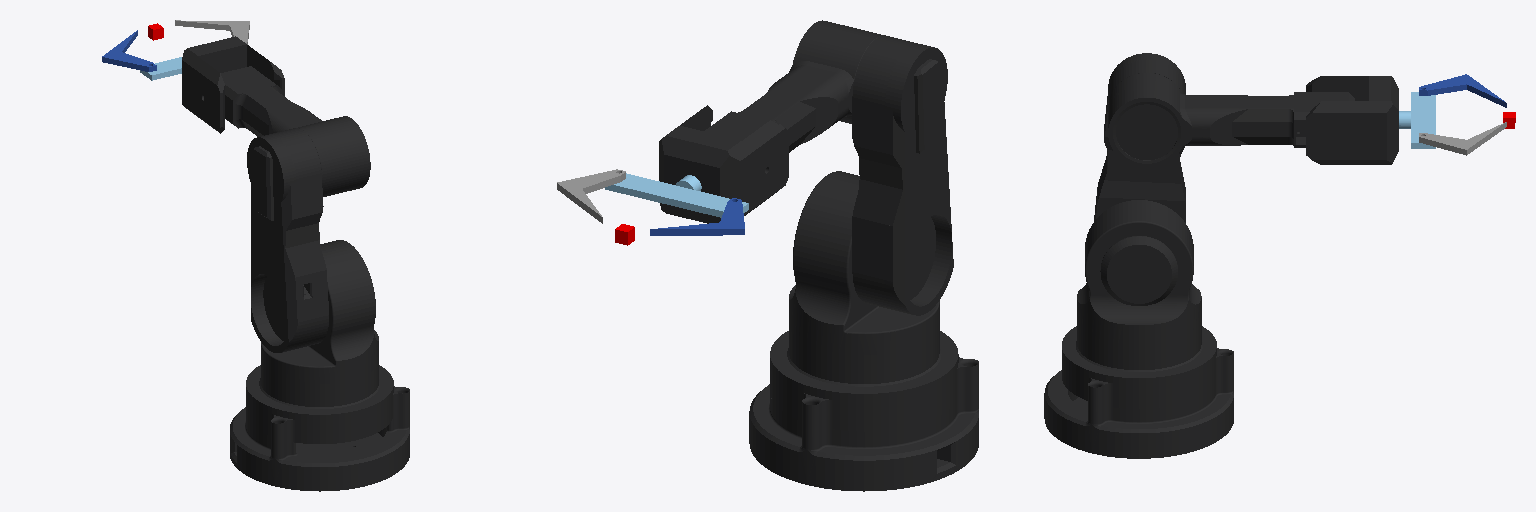
The robot description file, URDF, robot "D:\ArMigo(Camera detection)\my-robot":
<?xml version="1.0" ?>
<!-- Generated using onshape-to-robot -->
<!-- Onshape document_id: 5e99bb78a8250c6c95a72420 / workspace_id: 39aee4a9da8d2d7b8163efee -->
<robot name="D:\ArMigo(Camera detection)\my-robot">
  <!-- Link base -->
  <link name="base">
    <inertial>
      <origin xyz="0.000371043 -0.00214123 0.0408023" rpy="0 0 0"/>
      <mass value="0.817366"/>
      <inertia ixx="0.00178047" ixy="-5.26828e-06" ixz="6.95606e-06" iyy="0.00177252" iyz="5.74933e-05" izz="0.00234298"/>
    </inertial>
    <!-- Part base_cover -->
    <visual>
      <origin xyz="1.17294e-17 5.10979e-18 0.18944" rpy="0 -0 0"/>
      <geometry>
        <mesh filename="package://assets/base_cover.stl"/>
      </geometry>
      <material name="base_cover_material">
        <color rgba="0.219608 0.219608 0.223529 1"/>
      </material>
    </visual>
    <collision>
      <origin xyz="1.17294e-17 5.10979e-18 0.18944" rpy="0 -0 0"/>
      <geometry>
        <mesh filename="package://assets/base_cover.stl"/>
      </geometry>
    </collision>
    <!-- Part base -->
    <visual>
      <origin xyz="1.17294e-17 5.10979e-18 0.103886" rpy="0 -0 0"/>
      <geometry>
        <mesh filename="package://assets/base.stl"/>
      </geometry>
      <material name="base_material">
        <color rgba="0.219608 0.219608 0.223529 1"/>
      </material>
    </visual>
    <collision>
      <origin xyz="1.17294e-17 5.10979e-18 0.103886" rpy="0 -0 0"/>
      <geometry>
        <mesh filename="package://assets/base.stl"/>
      </geometry>
    </collision>
  </link>
  <!-- Link base_joint -->
  <link name="base_joint">
    <inertial>
      <origin xyz="0.00711901 0.000479763 -0.0402119" rpy="0 0 0"/>
      <mass value="0.493459"/>
      <inertia ixx="0.000765832" ixy="-4.20701e-06" ixz="5.30515e-05" iyy="0.000631671" iyz="-1.08541e-06" izz="0.000502006"/>
    </inertial>
    <!-- Part base_joint -->
    <visual>
      <origin xyz="-5.08446e-32 6.12323e-19 0.0254" rpy="-3.14159 -0 -6.38126e-16"/>
      <geometry>
        <mesh filename="package://assets/base_joint.stl"/>
      </geometry>
      <material name="base_joint_material">
        <color rgba="0.219608 0.219608 0.223529 1"/>
      </material>
    </visual>
    <collision>
      <origin xyz="-5.08446e-32 6.12323e-19 0.0254" rpy="-3.14159 -0 -6.38126e-16"/>
      <geometry>
        <mesh filename="package://assets/base_joint.stl"/>
      </geometry>
    </collision>
  </link>
  <!-- Link shoulders -->
  <link name="shoulders">
    <inertial>
      <origin xyz="0.0037654 0.0571502 -0.0185512" rpy="0 0 0"/>
      <mass value="0.413751"/>
      <inertia ixx="0.00115568" ixy="-5.81777e-05" ixz="1.71676e-06" iyy="0.000224153" iyz="2.63201e-05" izz="0.00128993"/>
    </inertial>
    <!-- Part joint_1__cover -->
    <visual>
      <origin xyz="-0.00413225 -0.0837181 0.013208" rpy="-1.62012 -1.5708 0"/>
      <geometry>
        <mesh filename="package://assets/joint_1__cover.stl"/>
      </geometry>
      <material name="joint_1__cover_material">
        <color rgba="0.219608 0.219608 0.223529 1"/>
      </material>
    </visual>
    <collision>
      <origin xyz="-0.00413225 -0.0837181 0.013208" rpy="-1.62012 -1.5708 0"/>
      <geometry>
        <mesh filename="package://assets/joint_1__cover.stl"/>
      </geometry>
    </collision>
    <!-- Part joint_1 -->
    <visual>
      <origin xyz="-0.00413225 -0.0837181 0.0127" rpy="-1.62012 -1.5708 0"/>
      <geometry>
        <mesh filename="package://assets/joint_1.stl"/>
      </geometry>
      <material name="joint_1_material">
        <color rgba="0.219608 0.219608 0.223529 1"/>
      </material>
    </visual>
    <collision>
      <origin xyz="-0.00413225 -0.0837181 0.0127" rpy="-1.62012 -1.5708 0"/>
      <geometry>
        <mesh filename="package://assets/joint_1.stl"/>
      </geometry>
    </collision>
  </link>
  <!-- Link elbow -->
  <link name="elbow">
    <inertial>
      <origin xyz="0.0434126 -0.00218935 -0.0245965" rpy="0 0 0"/>
      <mass value="0.322226"/>
      <inertia ixx="0.000114428" ixy="4.56214e-05" ixz="-1.86929e-05" iyy="0.00101786" iyz="9.5684e-07" izz="0.00103"/>
    </inertial>
    <!-- Part joint_2 -->
    <visual>
      <origin xyz="-0.210554 0.0105963 -0.0127" rpy="0.0502834 1.5708 0"/>
      <geometry>
        <mesh filename="package://assets/joint_2.stl"/>
      </geometry>
      <material name="joint_2_material">
        <color rgba="0.219608 0.219608 0.223529 1"/>
      </material>
    </visual>
    <collision>
      <origin xyz="-0.210554 0.0105963 -0.0127" rpy="0.0502834 1.5708 0"/>
      <geometry>
        <mesh filename="package://assets/joint_2.stl"/>
      </geometry>
    </collision>
  </link>
  <!-- Link joint_4 -->
  <link name="joint_4">
    <inertial>
      <origin xyz="-9.7362e-06 0.0221956 0.0227839" rpy="0 0 0"/>
      <mass value="0.127987"/>
      <inertia ixx="0.000104719" ixy="1.06029e-07" ixz="3.27562e-09" iyy="9.30536e-05" iyz="-3.68685e-06" izz="7.97099e-05"/>
    </inertial>
    <!-- Part joint_4 -->
    <visual>
      <origin xyz="-0.000354391 -0.368087 0.012954" rpy="-1.57176 -1.5708 0"/>
      <geometry>
        <mesh filename="package://assets/joint_4.stl"/>
      </geometry>
      <material name="joint_4_material">
        <color rgba="0.219608 0.219608 0.223529 1"/>
      </material>
    </visual>
    <collision>
      <origin xyz="-0.000354391 -0.368087 0.012954" rpy="-1.57176 -1.5708 0"/>
      <geometry>
        <mesh filename="package://assets/joint_4.stl"/>
      </geometry>
    </collision>
  </link>
  <!-- Link gripper -->
  <link name="gripper">
    <inertial>
      <origin xyz="1.82643e-07 0.00213952 -0.0310671" rpy="0 0 0"/>
      <mass value="0.025436"/>
      <inertia ixx="1.00304e-05" ixy="3.50493e-09" ixz="8.28826e-11" iyy="5.10879e-05" iyz="9.70903e-07" izz="4.15277e-05"/>
    </inertial>
    <!-- Part part_2 -->
    <visual>
      <origin xyz="2.13416e-07 0.0025 0.03" rpy="1.5708 -5.13166e-16 3.14151"/>
      <geometry>
        <mesh filename="package://assets/part_2.stl"/>
      </geometry>
      <material name="part_2_material">
        <color rgba="0.647059 0.647059 0.647059 1"/>
      </material>
    </visual>
    <collision>
      <origin xyz="2.13416e-07 0.0025 0.03" rpy="1.5708 -5.13166e-16 3.14151"/>
      <geometry>
        <mesh filename="package://assets/part_2.stl"/>
      </geometry>
    </collision>
    <!-- Part part_3 -->
    <visual>
      <origin xyz="2.13416e-07 0.0025 0.03" rpy="1.5708 -1.75831e-15 3.14151"/>
      <geometry>
        <mesh filename="package://assets/part_3.stl"/>
      </geometry>
      <material name="part_3_material">
        <color rgba="0.231373 0.380392 0.705882 1"/>
      </material>
    </visual>
    <collision>
      <origin xyz="2.13416e-07 0.0025 0.03" rpy="1.5708 -1.75831e-15 3.14151"/>
      <geometry>
        <mesh filename="package://assets/part_3.stl"/>
      </geometry>
    </collision>
    <!-- Part part_1 -->
    <visual>
      <origin xyz="-2.13416e-07 -0.0025 -0.02" rpy="1.5708 -7.66722e-16 3.14151"/>
      <geometry>
        <mesh filename="package://assets/part_1.stl"/>
      </geometry>
      <material name="part_1_material">
        <color rgba="0.615686 0.811765 0.929412 1"/>
      </material>
    </visual>
    <collision>
      <origin xyz="-2.13416e-07 -0.0025 -0.02" rpy="1.5708 -7.66722e-16 3.14151"/>
      <geometry>
        <mesh filename="package://assets/part_1.stl"/>
      </geometry>
    </collision>
  </link>
  <!-- Joint from joint_4 to gripper -->
  <joint name="5" type="revolute">
    <origin xyz="-1.97444e-05 0.046282 0.024384" rpy="1.56642 -1.5708 0"/>
    <parent link="joint_4"/>
    <child link="gripper"/>
    <axis xyz="0 0 1"/>
    <limit effort="10" velocity="10" lower="-1.57071" upper="1.57088"/>
  </joint>
  <!-- Joint from elbow to joint_4 -->
  <joint name="4" type="revolute">
    <origin xyz="0.159352 -0.0080195 8.11851e-16" rpy="-3.14159 -1.09041e-15 1.52051"/>
    <parent link="elbow"/>
    <child link="joint_4"/>
    <axis xyz="0 0 1"/>
    <limit effort="10" velocity="10" lower="-1.56983" upper="1.57176"/>
  </joint>
  <!-- Joint from shoulders to elbow -->
  <joint name="3" type="revolute">
    <origin xyz="0.00626098 0.126846 8.41341e-16" rpy="3.14159 8.53207e-18 -0.049319"/>
    <parent link="shoulders"/>
    <child link="elbow"/>
    <axis xyz="0 0 1"/>
    <limit effort="10" velocity="10" lower="-1.52051" upper="1.62108"/>
  </joint>
  <!-- Joint from base_joint to shoulders -->
  <joint name="2" type="revolute">
    <origin xyz="-0.0127 8.71652e-18 -0.05842" rpy="-1.5708 9.62965e-35 -1.5708"/>
    <parent link="base_joint"/>
    <child link="shoulders"/>
    <axis xyz="0 0 1"/>
    <limit effort="10" velocity="10" lower="-1.52148" upper="1.62012"/>
  </joint>
  <!-- Joint from base to base_joint -->
  <joint name="1" type="revolute">
    <origin xyz="1.17294e-17 5.25755e-18 0.0889" rpy="3.14159 -0 0"/>
    <parent link="base"/>
    <child link="base_joint"/>
    <axis xyz="0 0 1"/>
    <limit effort="10" velocity="10" lower="-1.5708" upper="1.5708"/>
  </joint>
  <!-- EE link -->
<link name="ee">
  <visual>
    <origin xyz="0 0 0" rpy="0 0 0"/>
    <geometry>
      <box size="0.01 0.01 0.01"/> <!-- tiny placeholder -->
    </geometry>
    <material name="ee_material">
      <color rgba="1 0 0 1"/>
    </material>
  </visual>
</link>

<!-- Fixed joint from gripper to EE -->
<joint name="gripper_to_ee" type="fixed">
  <parent link="gripper"/>
  <child link="ee"/>
  <origin xyz="0 0 -0.09" rpy="0 0 0"/> <!-- 9cm along gripper Z -->
</joint>

</robot>

--- Render facts (derived) ---
3 views of the same robot in one strip: view 1: azimuth 30°, elevation 25°; view 2: azimuth 150°, elevation 25°; view 3: azimuth 270°, elevation 25° (orthographic).
Model D:\ArMigo(Camera detection)\my-robot with 7 links and 6 joints (5 revolute, 1 fixed), rooted at base, posed all joints at 0.
Visible links, largest first — view 1: base, shoulders, base_joint, elbow, joint_4, gripper; view 2: base, shoulders, base_joint, elbow, joint_4, gripper; view 3: base, base_joint, elbow, joint_4, shoulders, gripper.
Boxes of the visible links, x1=… form: base: x1=230, y1=363, x2=409, y2=491; shoulders: x1=247, y1=128, x2=328, y2=352; base_joint: x1=261, y1=240, x2=378, y2=383; elbow: x1=221, y1=66, x2=370, y2=196; joint_4: x1=182, y1=36, x2=284, y2=133; gripper: x1=102, y1=20, x2=249, y2=80; base: x1=749, y1=325, x2=978, y2=491; shoulders: x1=852, y1=36, x2=953, y2=315; base_joint: x1=789, y1=171, x2=939, y2=354; elbow: x1=704, y1=20, x2=885, y2=152; joint_4: x1=659, y1=105, x2=788, y2=223; gripper: x1=557, y1=169, x2=748, y2=235; base: x1=1044, y1=321, x2=1233, y2=458; base_joint: x1=1077, y1=200, x2=1201, y2=345; elbow: x1=1108, y1=73, x2=1354, y2=167; joint_4: x1=1306, y1=76, x2=1398, y2=164; shoulders: x1=1094, y1=53, x2=1185, y2=222; gripper: x1=1399, y1=74, x2=1506, y2=155.
Size in the robot's own frame: 0.1625 by 0.3846 by 0.3059 metres.
10 mesh visuals loaded from 10 distinct referenced files (10 binary STL).
